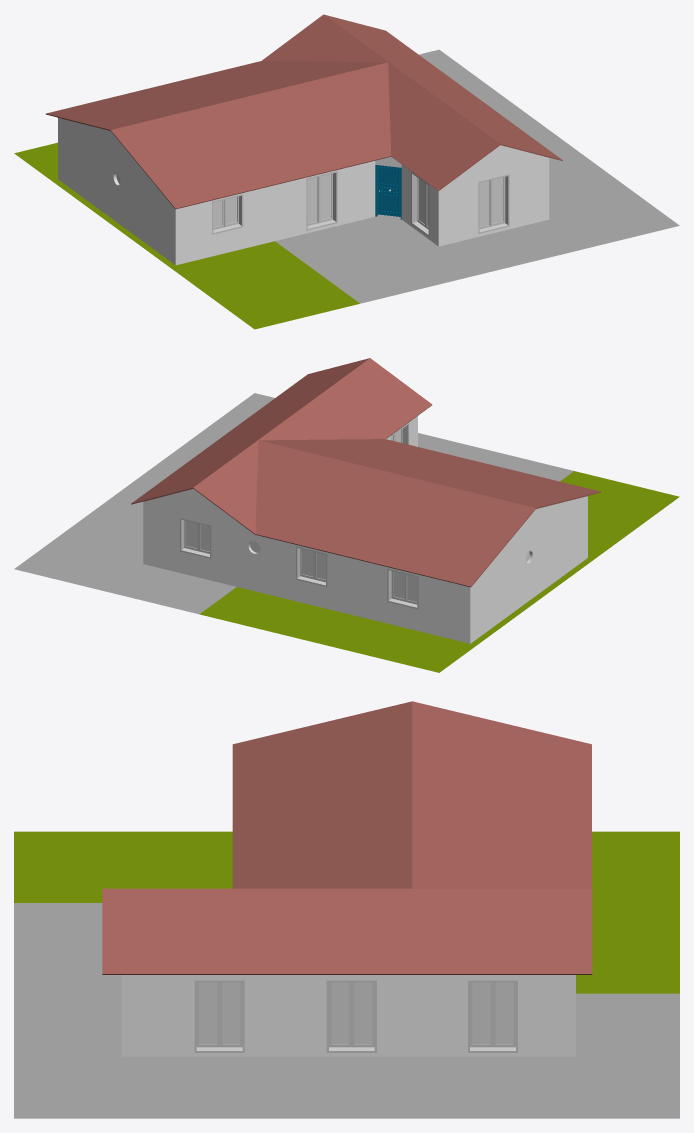
The model's file is house.glb.
3 views of the same model, one above another, from view 1: azimuth 30°, elevation 25°; view 2: azimuth 150°, elevation 25°; view 3: azimuth 270°, elevation 25° (orthographic). The views are drawn at different scales.
Visible parts, largest first — view 1: home_2; view 2: home_2; view 3: home_2.
Boxes of the visible parts, x1,y1,x2,y2 form: home_2: (14,14,679,329); home_2: (14,358,679,672); home_2: (14,701,679,1118).
Bounding box in the file's own units: 22.45 × 4.76 × 22.
